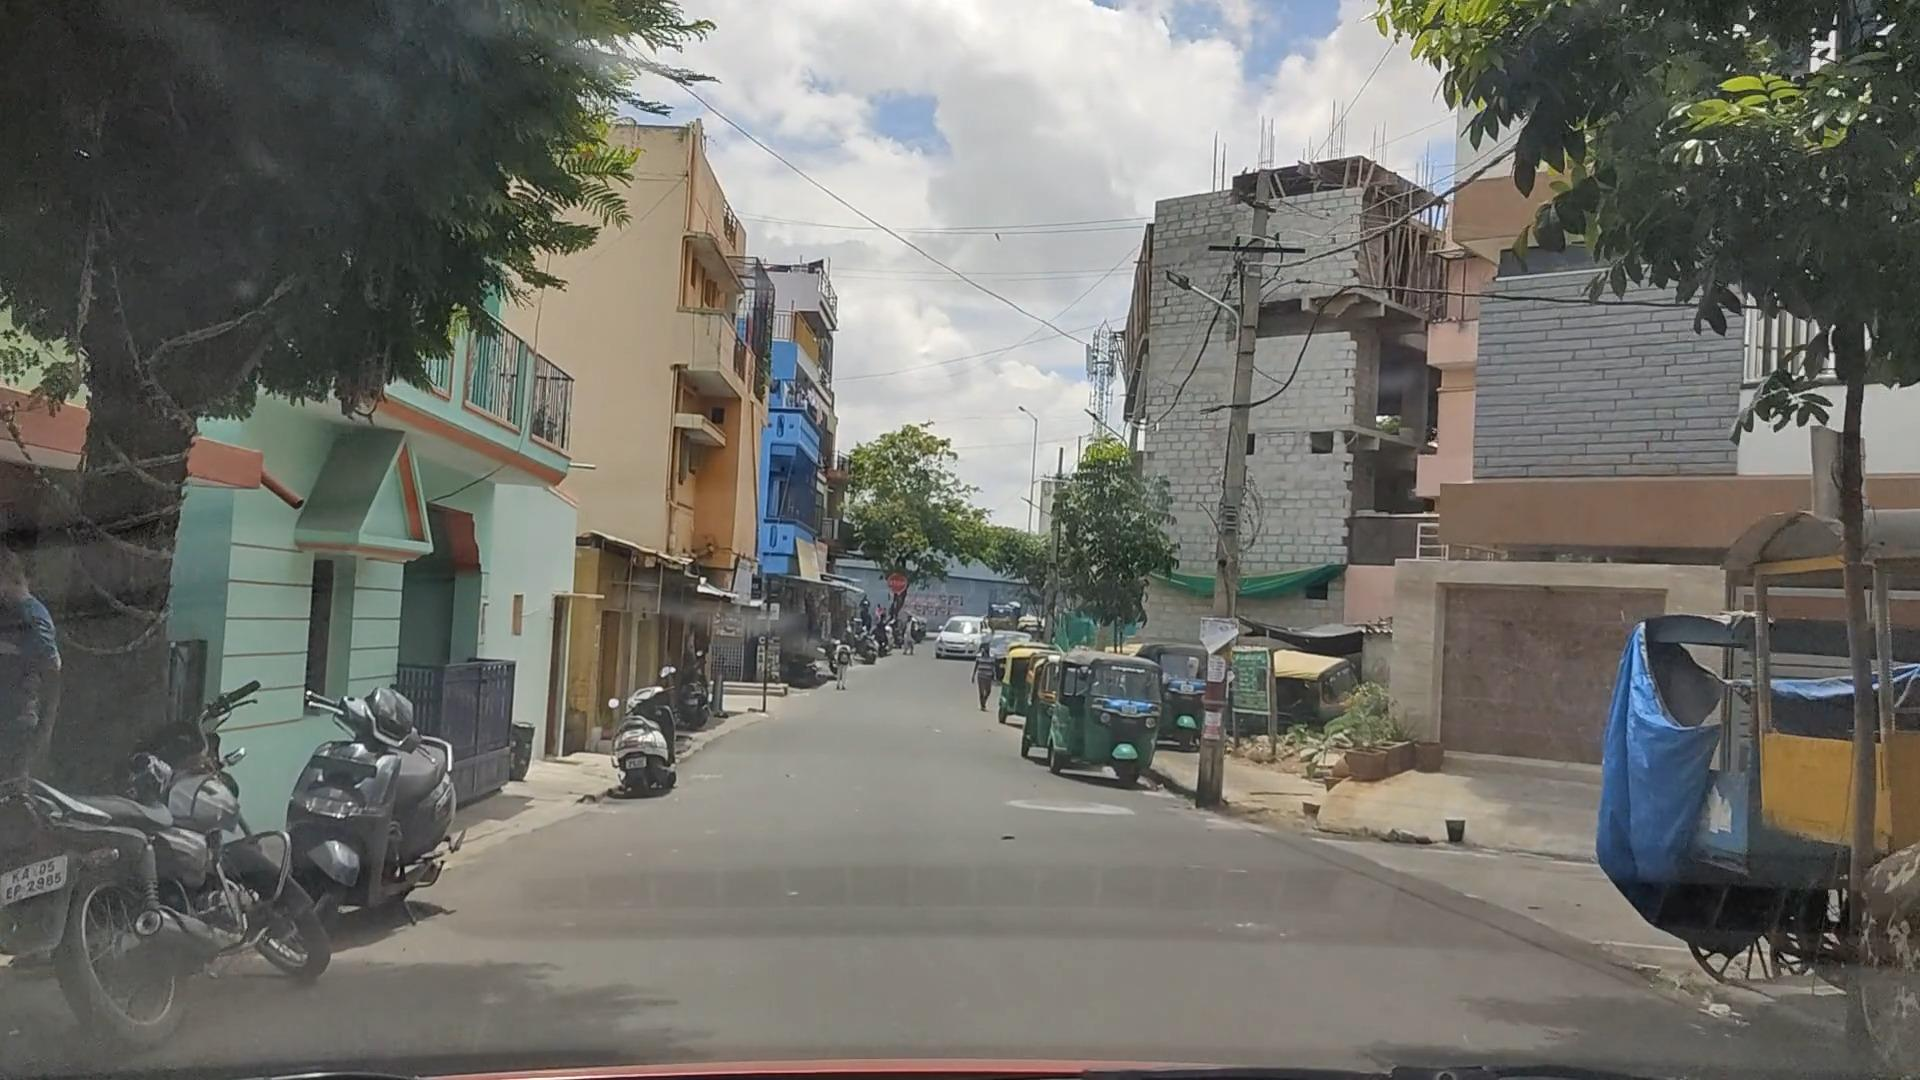LMV: (1036, 657, 1156, 773)
RoadDamages: (1013, 791, 1135, 828)
